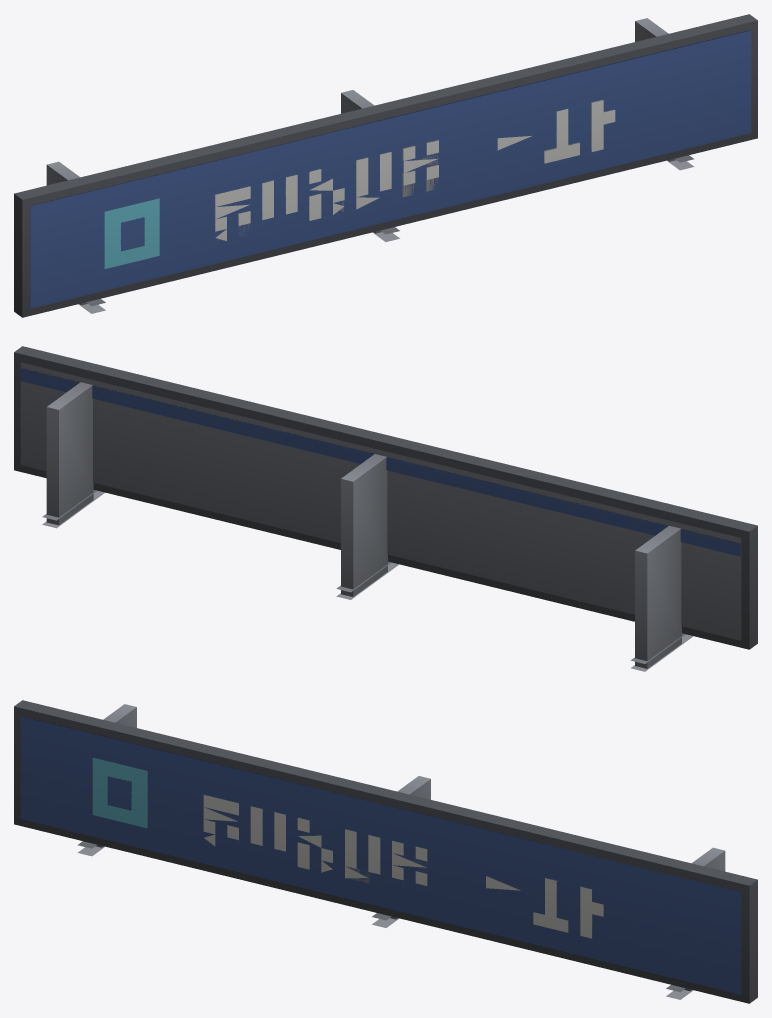
Rendered from ad_navy.lod.glb.
The picture shows the model from 3 angles, top to bottom: view 1: azimuth 30°, elevation 25°; view 2: azimuth 150°, elevation 25°; view 3: azimuth 330°, elevation 25°; orthographic projection.
Parts seen in each view (by area): view 1: ad_navy; view 2: ad_navy; view 3: ad_navy.
Boxes of the visible parts, box(x1,y1,x2,y2) form: ad_navy: box(14, 14, 757, 317); ad_navy: box(14, 346, 757, 671); ad_navy: box(14, 700, 757, 1003).
Size of the model in its own units: 6 by 1 by 0.7.
